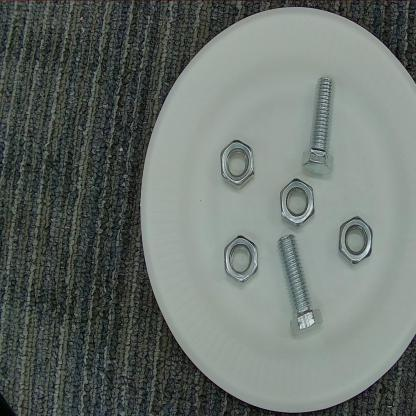FOD: (271, 230, 329, 348), (301, 69, 339, 182), (215, 132, 261, 194), (278, 174, 319, 237), (337, 209, 377, 270), (222, 228, 260, 290)
